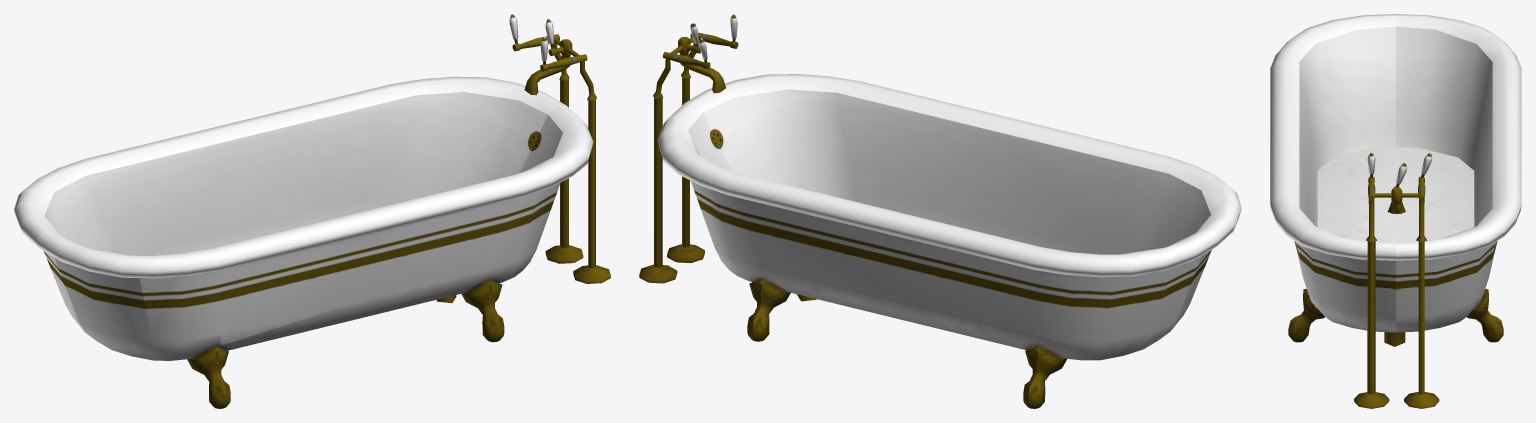
File: Bathtub.obj
3 renders of one model, left to right at view 1: azimuth 30°, elevation 25°; view 2: azimuth 150°, elevation 25°; view 3: azimuth 270°, elevation 25°, orthographic. The views are drawn at different scales.
Parts seen in each view (by area): view 1: Bathtub; view 2: Bathtub; view 3: Bathtub.
Part boxes in pixels (<box>): Bathtub: <box>14,14,610,408</box>; Bathtub: <box>639,14,1241,408</box>; Bathtub: <box>1270,14,1521,408</box>.
Size of the model in its own units: 332 by 142 by 142.
Materials: 1 (1 with a texture image).
